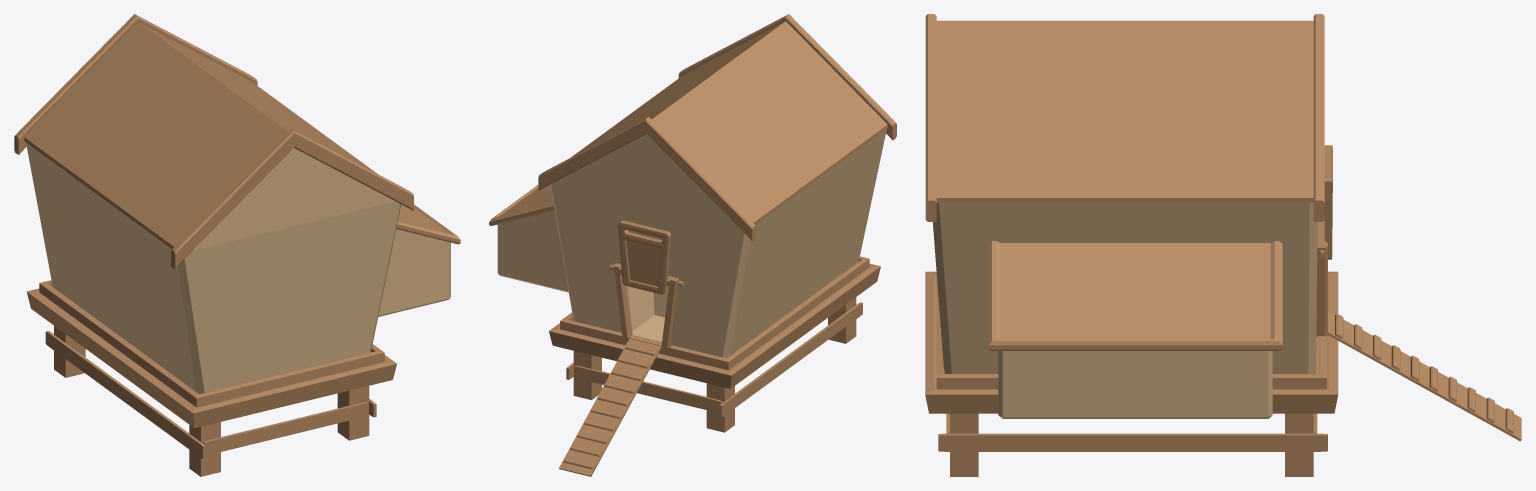
The model's file is Chicken Coop (Remake).fbx.
3 views of the same model, side by side, from view 1: azimuth 30°, elevation 25°; view 2: azimuth 150°, elevation 25°; view 3: azimuth 270°, elevation 25° (orthographic). The views are drawn at different scales.
Parts seen in each view (by area): view 1: Cube.001; view 2: Cube.001; view 3: Cube.001.
Boxes of the visible parts, bbox=[...] form: Cube.001: bbox=[14, 14, 460, 476]; Cube.001: bbox=[489, 14, 896, 476]; Cube.001: bbox=[925, 14, 1521, 476].
Bounding box in the file's own units: 1098 × 1138 × 1474.
